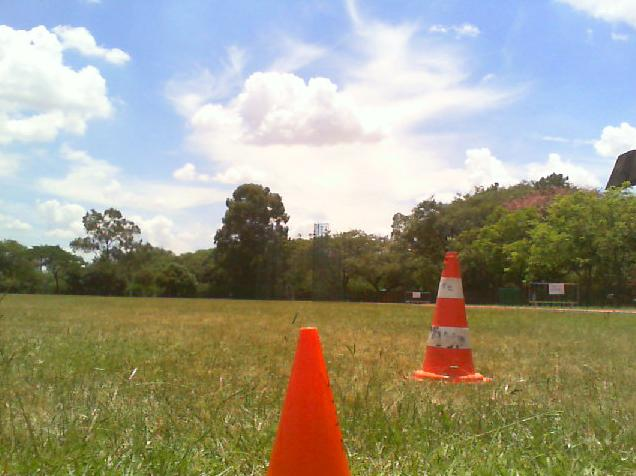0 cone: (266, 327, 350, 476), (405, 252, 491, 383)
